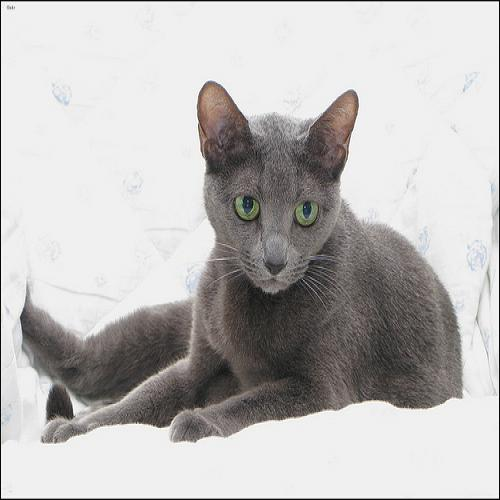rblue: (191, 66, 361, 306)
